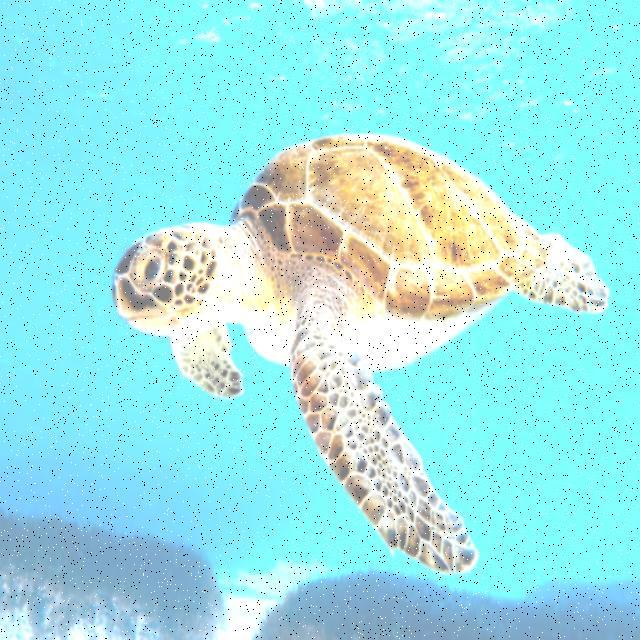tortoise: (111, 130, 609, 568)
